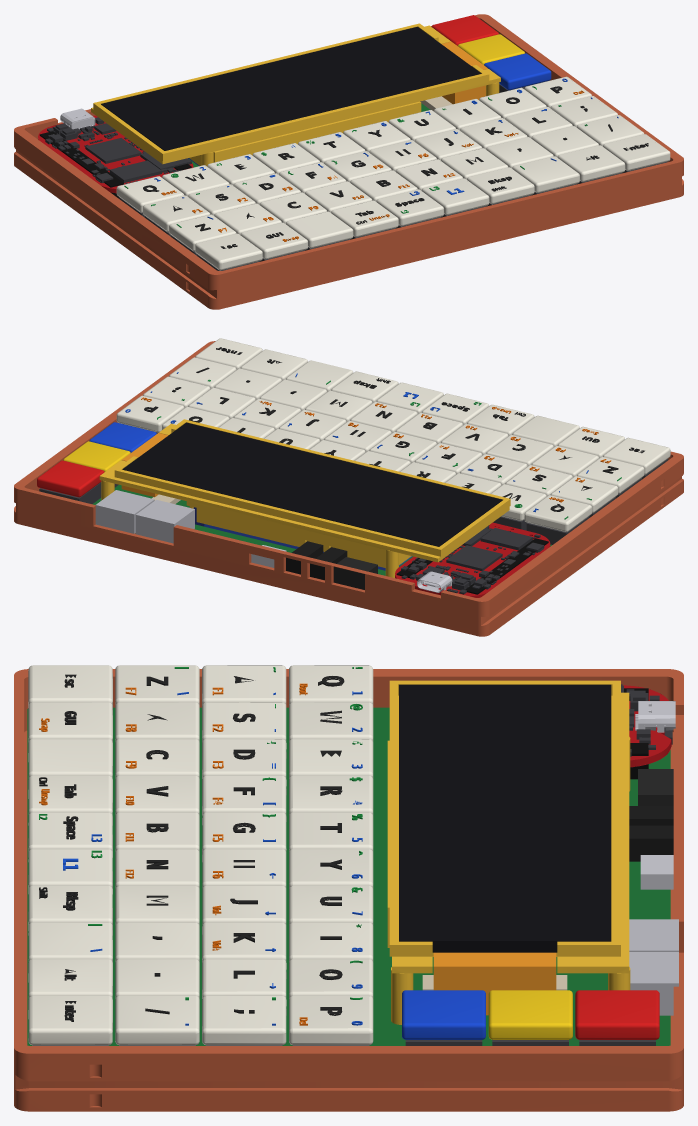
File: open_terracotta.glb
The picture shows the model from 3 angles, top to bottom: view 1: azimuth 30°, elevation 25°; view 2: azimuth 150°, elevation 25°; view 3: azimuth 270°, elevation 25°; orthographic projection. The views are drawn at different scales.
Visible parts, largest first — view 1: Internals, Tray; view 2: Internals, Tray; view 3: Internals, Tray.
Boxes of the visible parts, x1=… form: Internals: x1=38, y1=15, x2=670, y2=270; Tray: x1=14, y1=14, x2=683, y2=309; Internals: x1=37, y1=338, x2=670, y2=597; Tray: x1=14, y1=341, x2=683, y2=636; Internals: x1=27, y1=665, x2=678, y2=1045; Tray: x1=14, y1=669, x2=683, y2=1111.
Size of the model in its own units: 0.1782 by 0.0211 by 0.1312.
